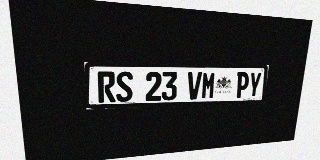2: (146, 72, 162, 101)
3: (161, 72, 177, 101)
M: (201, 72, 216, 99)
P: (235, 72, 250, 98)
R: (97, 71, 116, 103)
S: (116, 71, 133, 102)
V: (187, 72, 202, 100)
Y: (247, 72, 262, 98)
